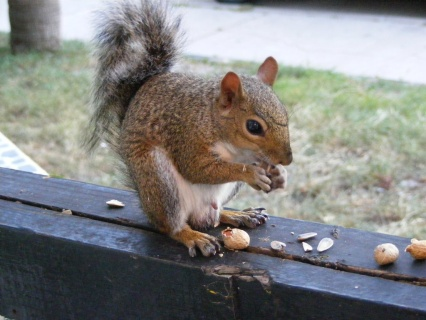Squirrel: (73, 0, 318, 260)
